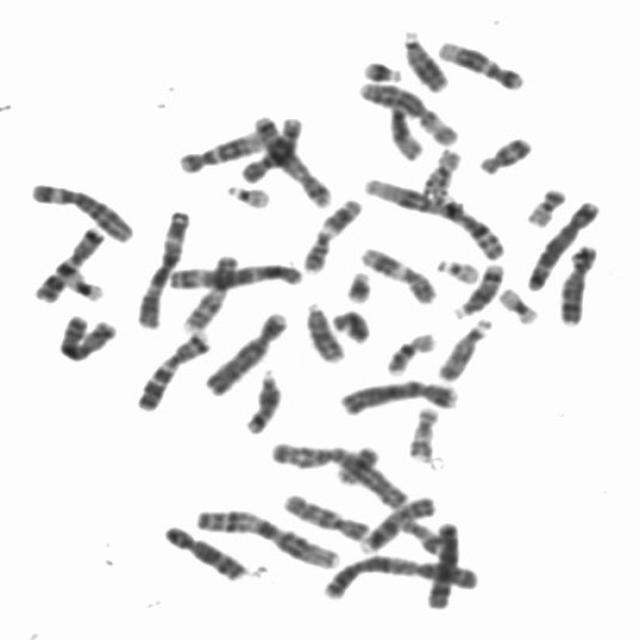A1: (356, 169, 509, 261), (188, 501, 343, 571)
A2: (262, 433, 415, 509), (313, 548, 484, 600)
A3: (130, 202, 192, 330), (162, 254, 304, 291)
B4: (197, 303, 290, 398), (330, 371, 462, 417)
B5: (245, 108, 334, 208), (520, 192, 603, 292)
C10: (275, 485, 372, 543), (233, 108, 306, 184)
C11: (295, 190, 365, 274), (353, 239, 440, 305)
C12: (430, 32, 528, 91), (170, 124, 264, 174)
C6: (351, 73, 461, 147), (22, 173, 136, 244)
C7: (128, 323, 213, 413), (25, 218, 107, 304)
C8: (154, 516, 250, 582), (552, 237, 602, 328)
C9: (175, 246, 240, 334), (353, 488, 438, 554)
D13: (395, 21, 451, 94), (298, 294, 348, 364)
D14: (446, 255, 507, 320), (237, 362, 283, 436)
D15: (429, 310, 495, 383), (381, 92, 426, 162)
E16: (378, 324, 439, 376), (414, 140, 464, 200)
E17: (400, 398, 441, 462), (391, 507, 444, 555)
E18: (470, 128, 535, 176), (324, 301, 374, 344)
F19: (492, 280, 542, 326), (56, 261, 106, 302)
F20: (518, 180, 570, 228), (330, 438, 380, 486)
G21: (354, 51, 406, 84), (338, 264, 375, 304)
G22: (429, 251, 483, 285), (218, 177, 272, 210)
X: (418, 514, 462, 612), (50, 307, 120, 364)
